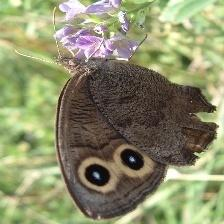butterfly: (56, 58, 218, 220)
